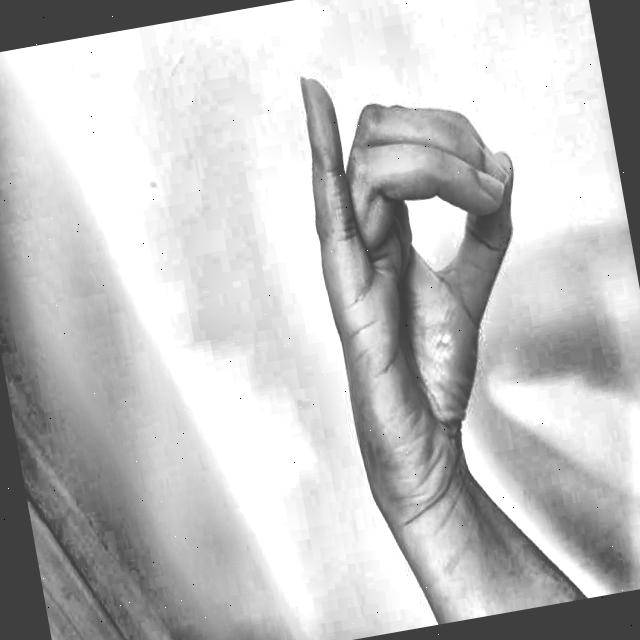Ou: (260, 15, 592, 540)
